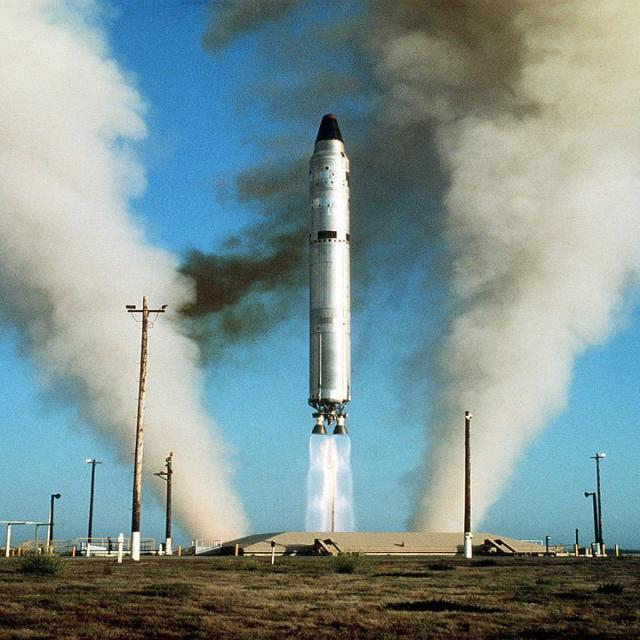missile: (271, 107, 396, 436)
